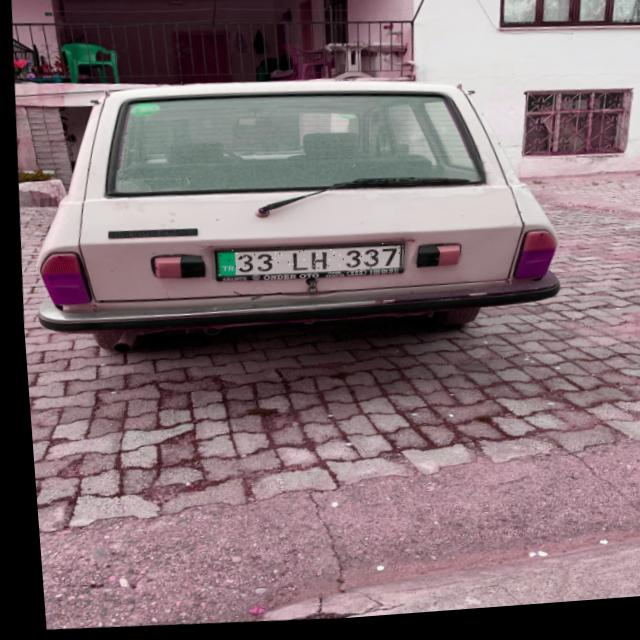license_plate: (211, 242, 400, 287)
